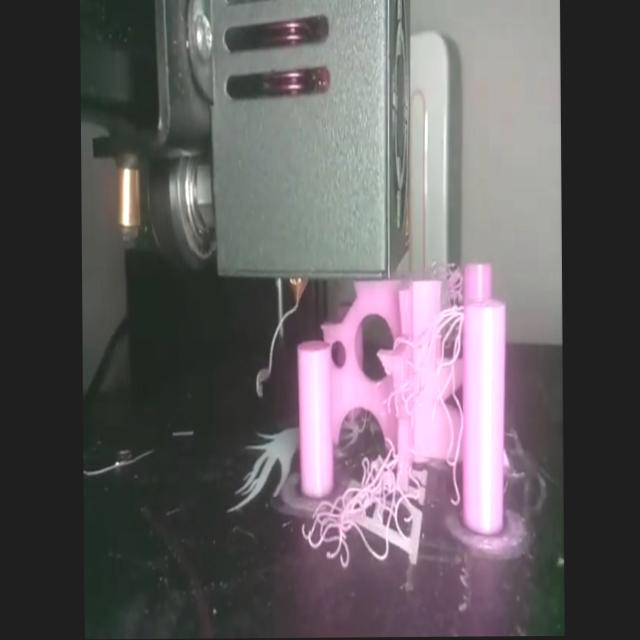spaghetti: (309, 458, 434, 589)
